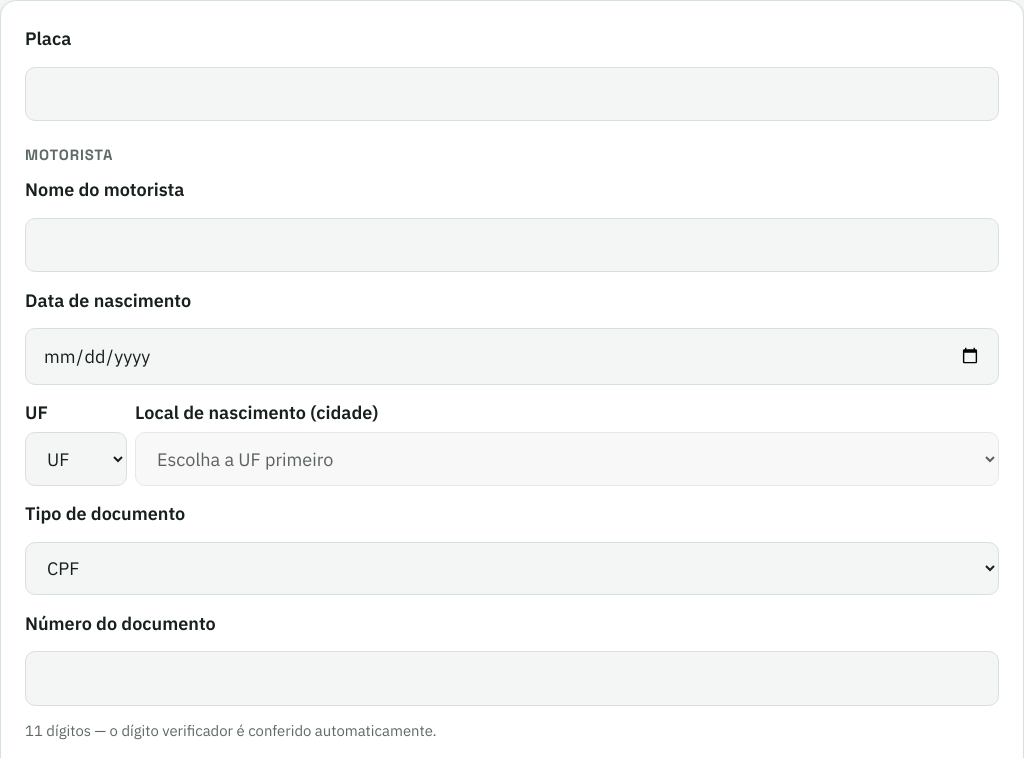
Test: ScheduleForm - cidade de nascimento › carrega as cidades da UF escolhida e libera a seleção
Select "MA" in the dropdown labelled "UF" at (76,459), box [25,432,127,486]
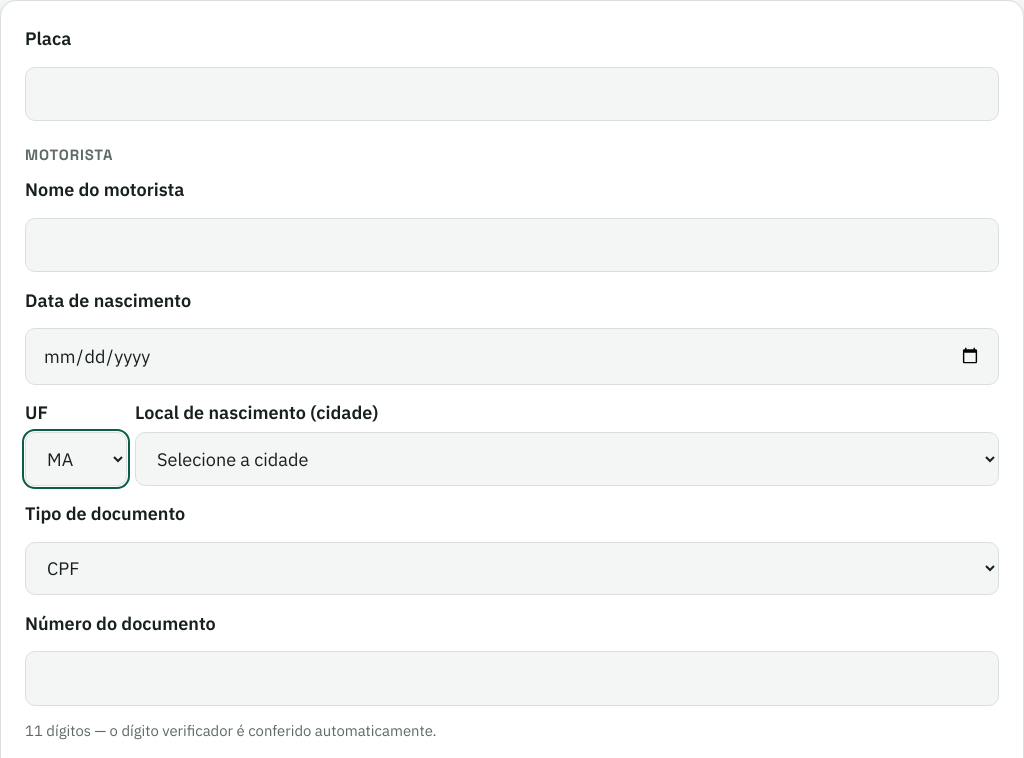
Result: the dropdown labelled "Local de nascimento (cidade)" is enabled at [135,432,999,486]
